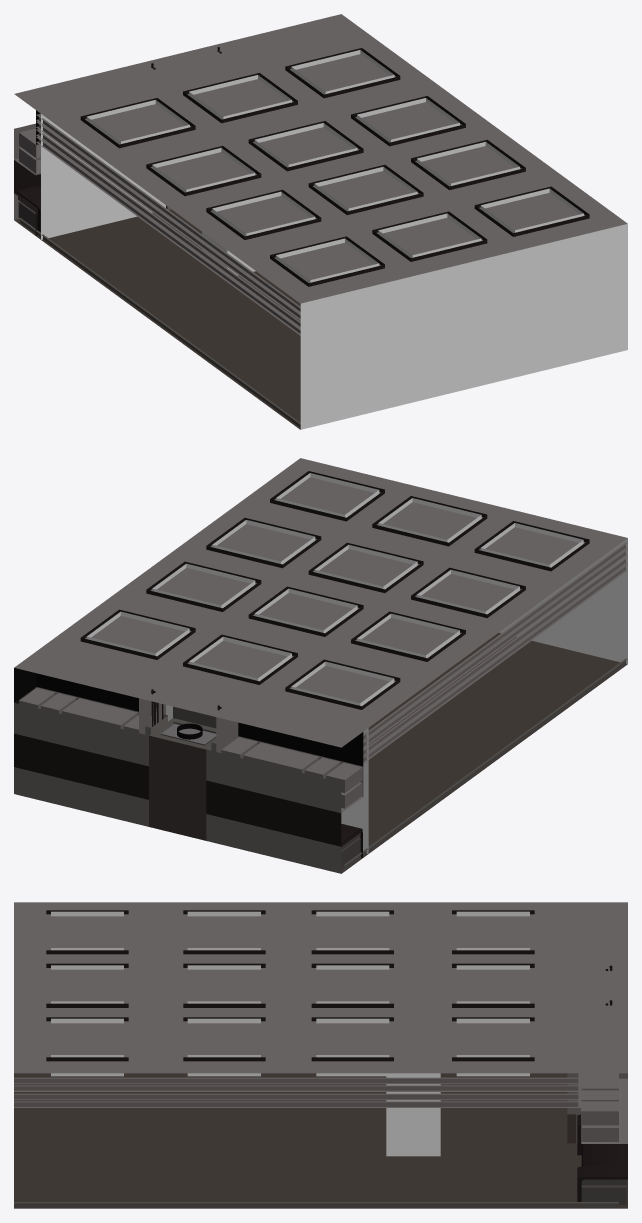
File: workshop.glb
3 renders of one model, top to bottom at view 1: azimuth 30°, elevation 25°; view 2: azimuth 150°, elevation 25°; view 3: azimuth 270°, elevation 25°, orthographic. The views are drawn at different scales.
Visible parts, largest first — view 1: level.002, level; view 2: level.002, level; view 3: level.002, level.
Boxes of the visible parts, x1=… form: level.002: x1=14, y1=14, x2=627, y2=427; level: x1=14, y1=114, x2=627, y2=429; level.002: x1=14, y1=458, x2=627, y2=873; level: x1=14, y1=538, x2=627, y2=873; level.002: x1=14, y1=902, x2=627, y2=1207; level: x1=14, y1=1073, x2=627, y2=1208.
Size of the model in its own units: 18.74 by 7.14 by 28.4.
4 materials, 1 textured.
